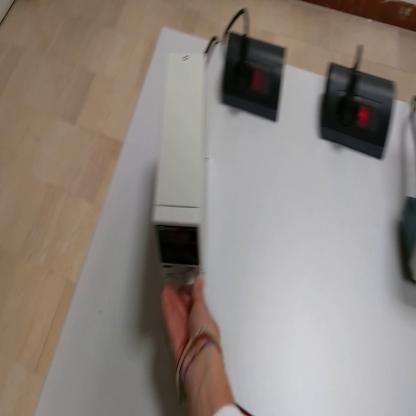hand: (160, 274, 225, 379)
oscilloscope: (399, 192, 416, 280)
power supply: (145, 59, 209, 300)
socket: (317, 56, 399, 163), (222, 30, 291, 125)
